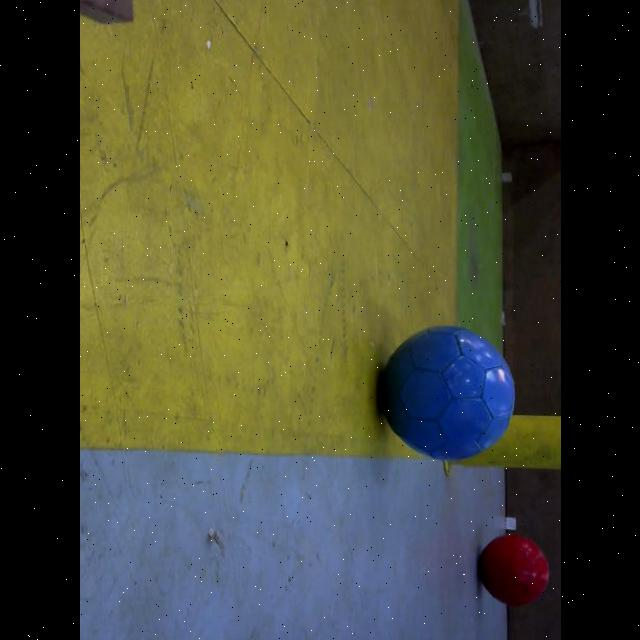B: (380, 326, 514, 462)
R: (479, 535, 549, 607)
